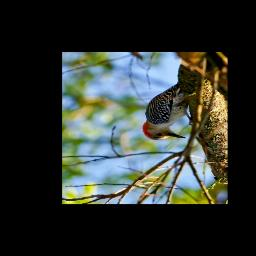Woodpecker: (130, 77, 198, 143)
